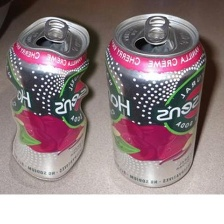can: (103, 10, 208, 189), (2, 12, 93, 182)
